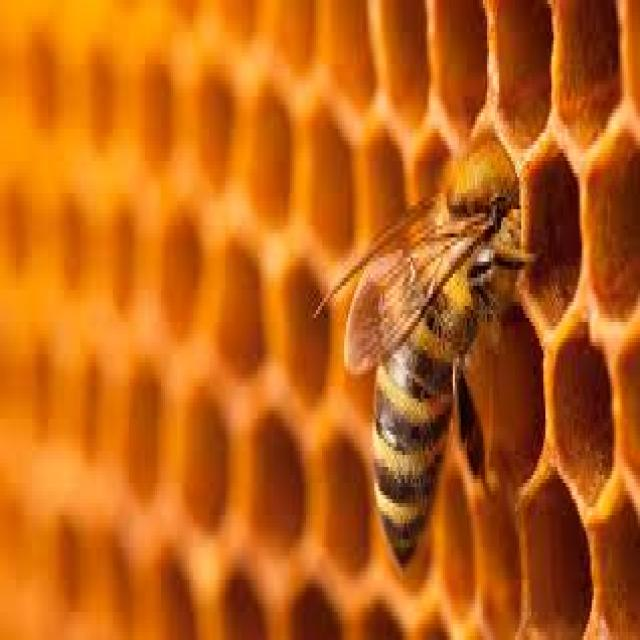Bees: (316, 150, 533, 564)
